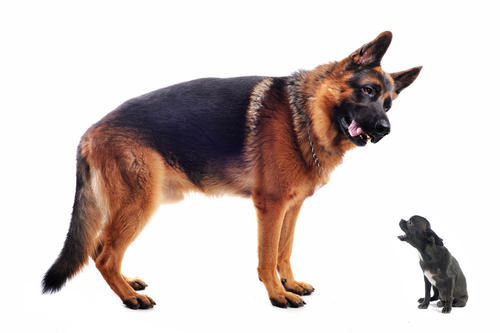dog: (318, 32, 430, 163), (390, 211, 438, 257)
